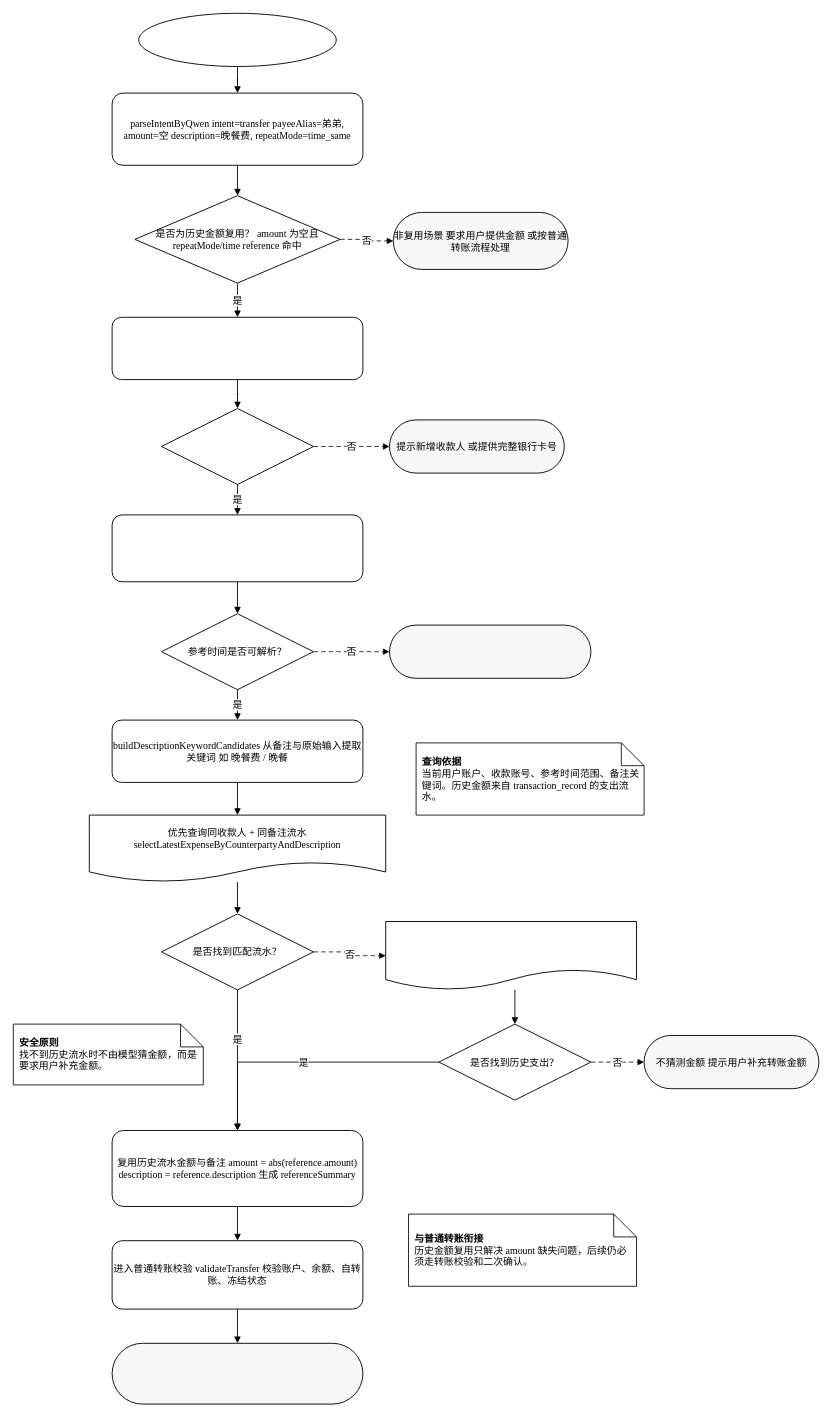
The diagram is 833 pixels wide and 1418 high, and some of its shapes have lost their labels. The centre of each missing label's shape, as x and y in pixels:
resolveReferenceRange Time.fillTimeRange 计算参考时间范围 如前天 00:00:00 至 23:59:59: (x=237, y=548)
收款人是否唯一匹配？: (x=237, y=446)
时间模糊，比如“那次”“以前”等， 提示补充参考时间，如昨天、前天、上个月: (x=490, y=651)
未找到则回退 查询同收款人最近一笔支出 selectLatestExpenseByCounterparty: (x=511, y=955)
生成确认信息并保存 PendingTransfer 回复用户确认后才执行: (x=237, y=1373)
用户输入 “给弟弟转晚餐费，和前天一样”: (x=237, y=39)
解析并匹配收款人 PayeeContactMapper.selectByUserIdAndAlias 得到 toAccountNo: (x=237, y=348)
